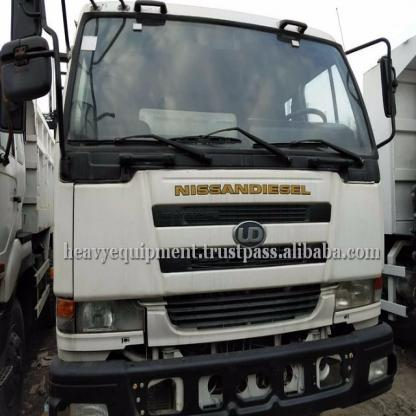dump_truck: (37, 4, 403, 415)
